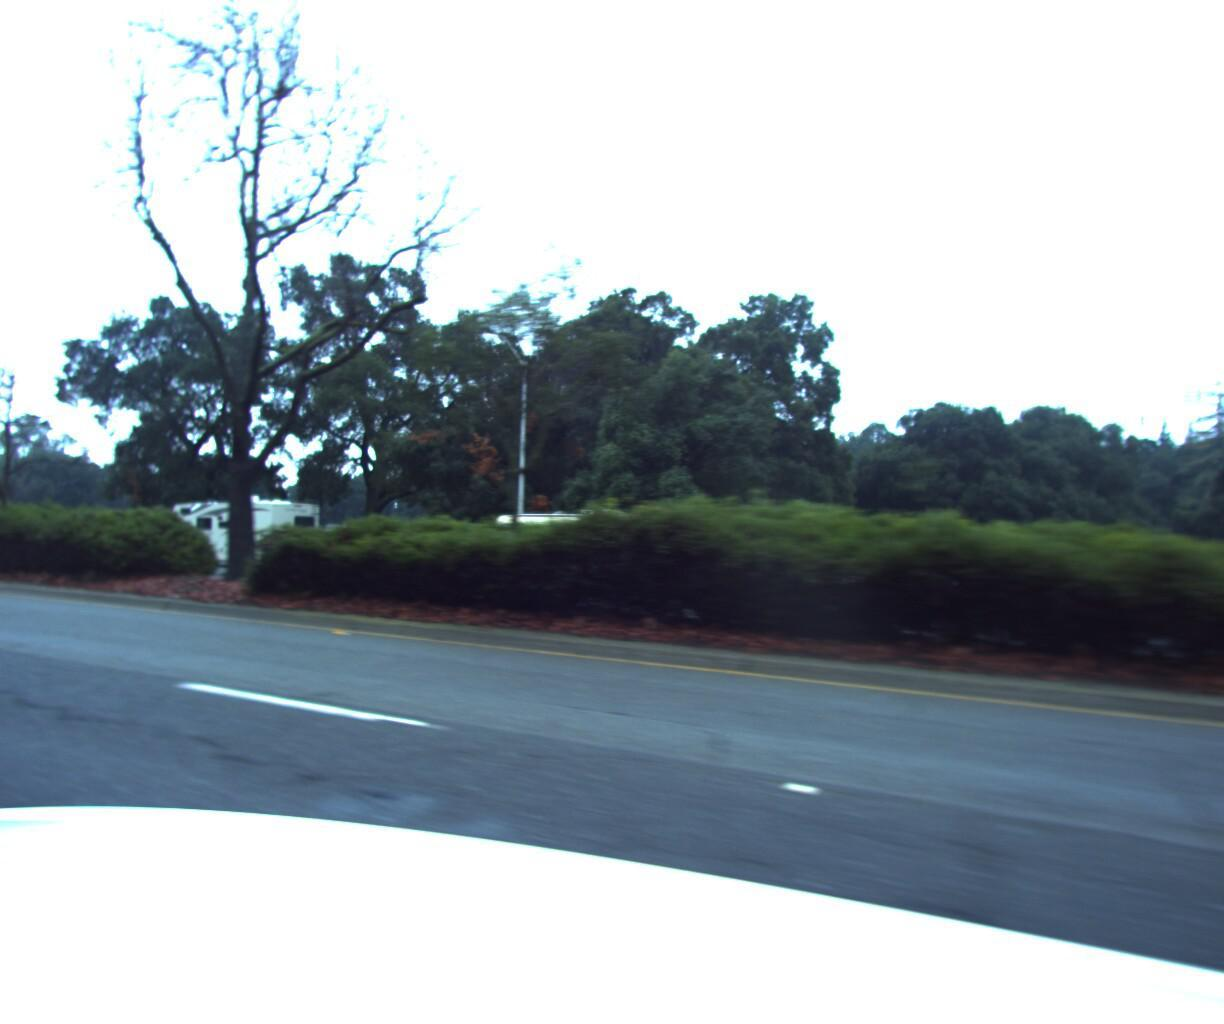other_vehicle: (469, 501, 657, 593), (163, 486, 325, 573)
